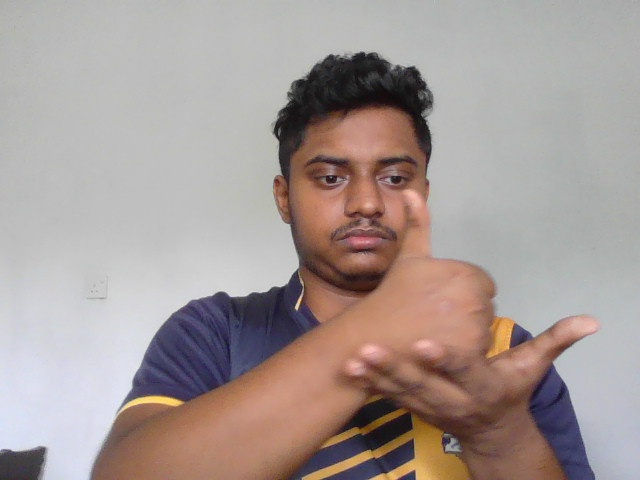Help: (339, 187, 604, 433)
